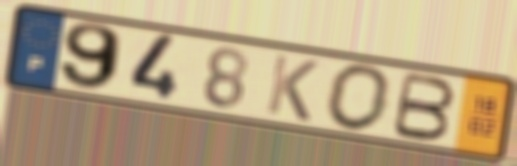4: (127, 30, 187, 106)
8: (201, 45, 252, 110)
9: (59, 21, 130, 95)
B: (389, 69, 459, 144)
K: (263, 51, 322, 125)
O: (324, 61, 395, 135)
